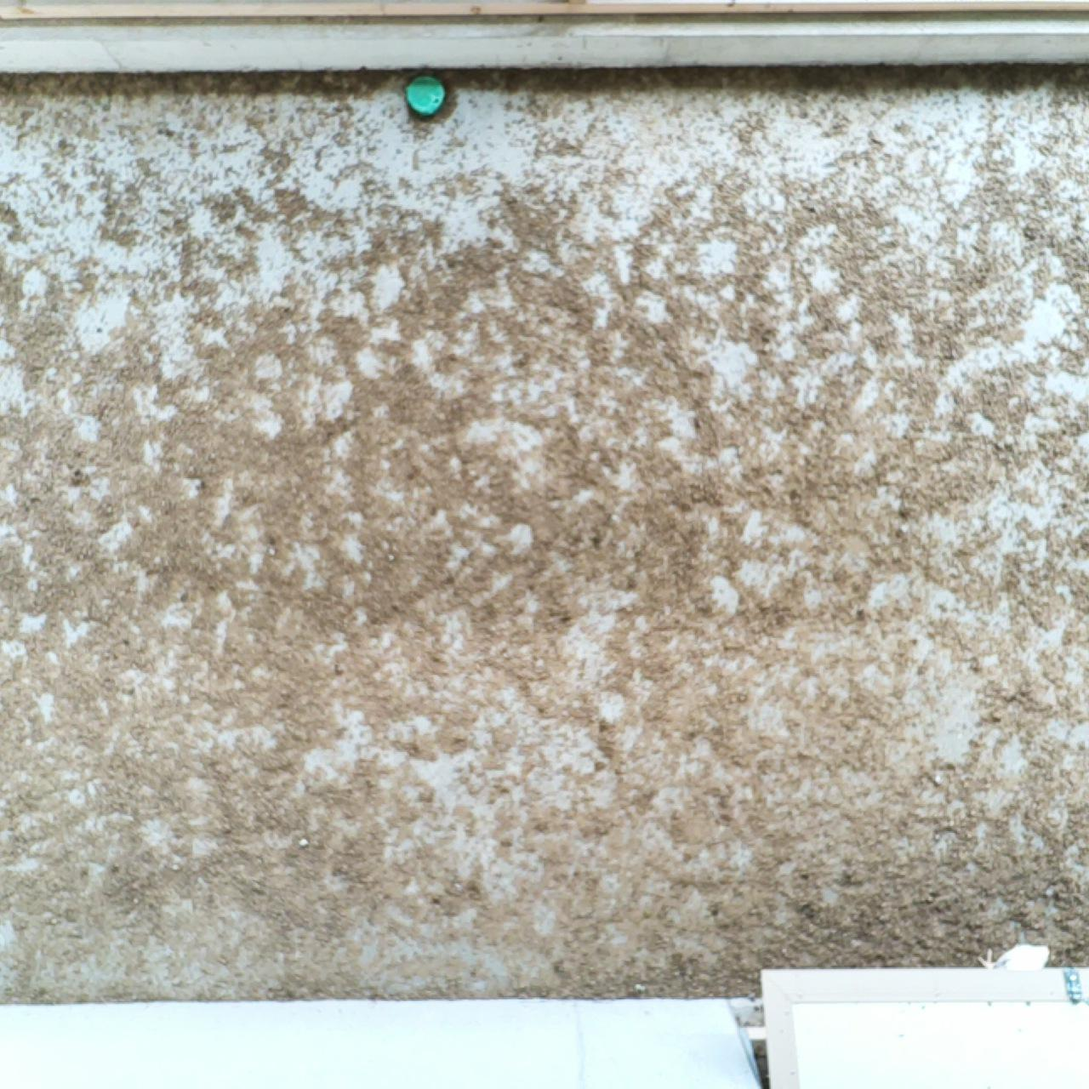chicken: (976, 938, 1054, 970)
